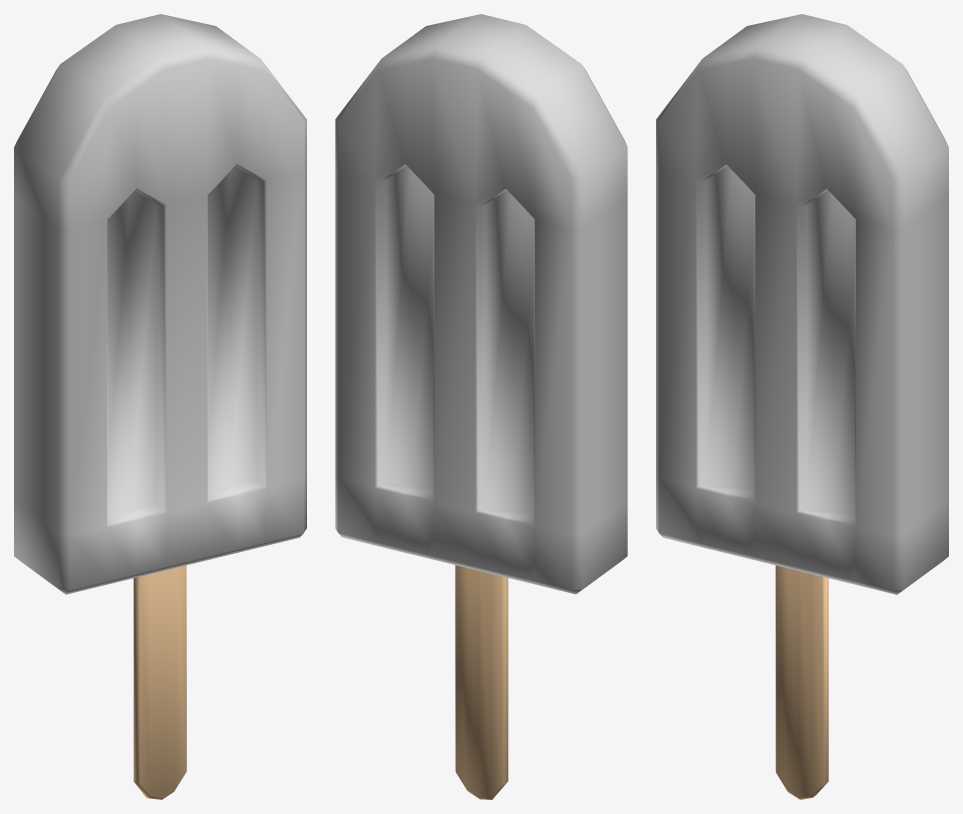
The model's file is ice_cream.fbx.
3 renders of one model, left to right at view 1: azimuth 30°, elevation 25°; view 2: azimuth 150°, elevation 25°; view 3: azimuth 330°, elevation 25°, orthographic.
Visible parts, largest first — view 1: popscicle.001; view 2: popscicle.001; view 3: popscicle.001.
Boxes of the visible parts, <box> form: popscicle.001: <box>14,14,306,799</box>; popscicle.001: <box>335,14,627,799</box>; popscicle.001: <box>656,14,948,799</box>.
Size of the model in its own units: 189 by 554 by 69.66.
